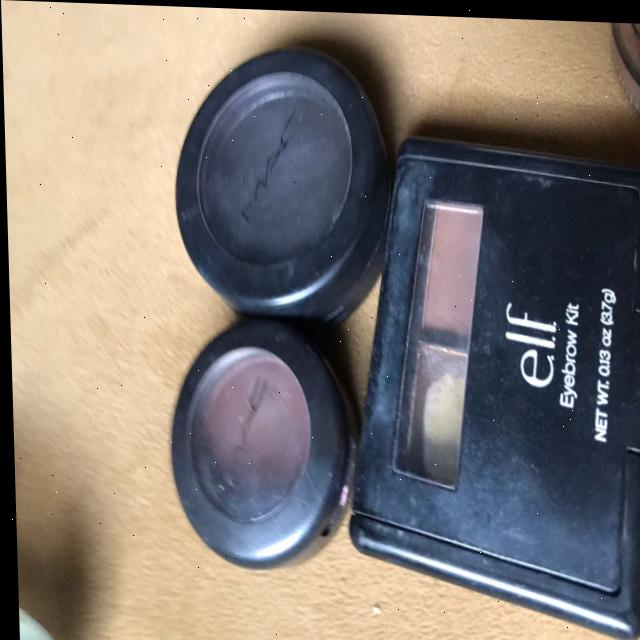eye shade: (173, 63, 373, 309), (151, 335, 326, 557)
